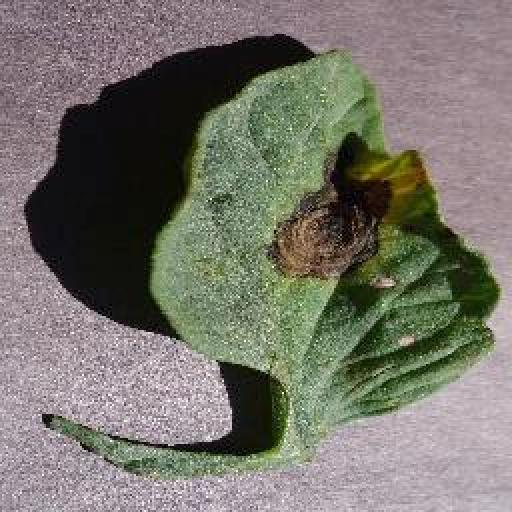disease_tomato: (154, 48, 496, 430)
